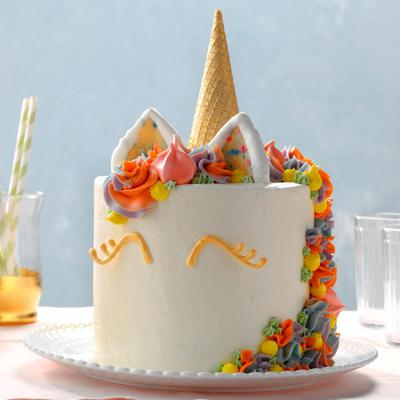cake: (91, 117, 339, 383)
